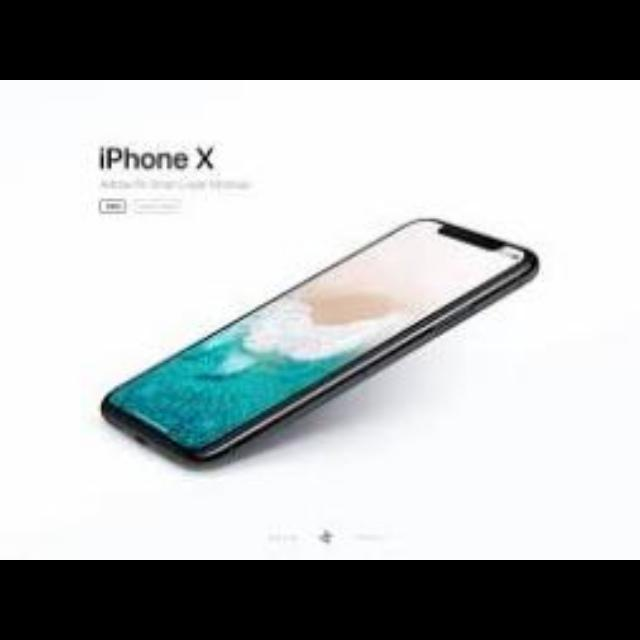Phone: (99, 217, 539, 469)
